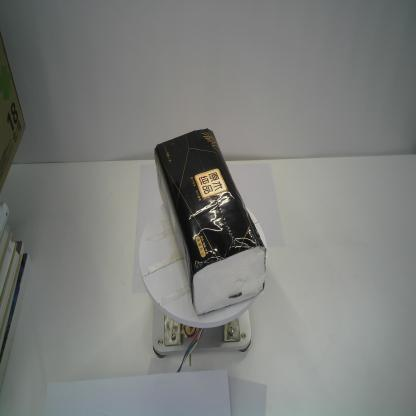Tissue: (152, 127, 268, 317)
